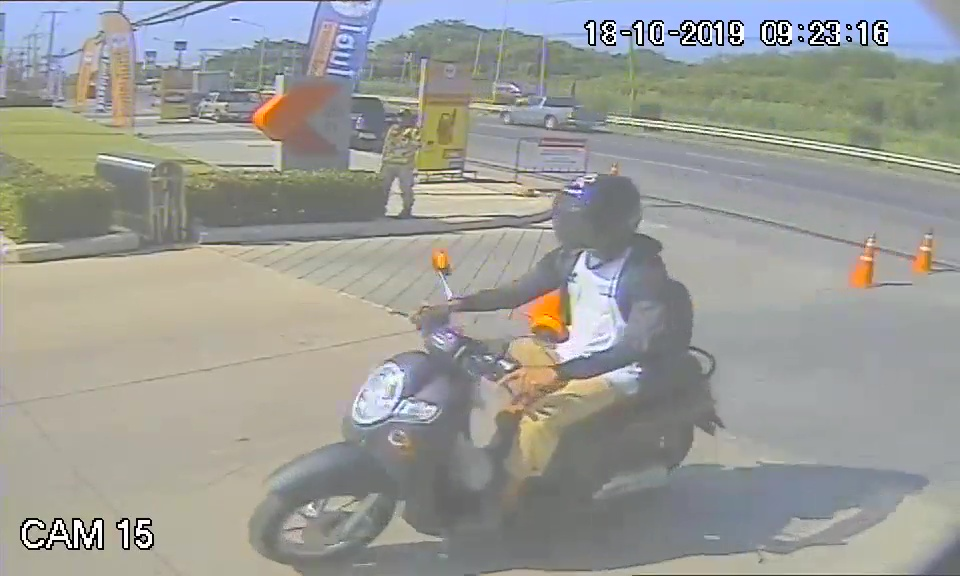motorcycle: (250, 326, 731, 570)
